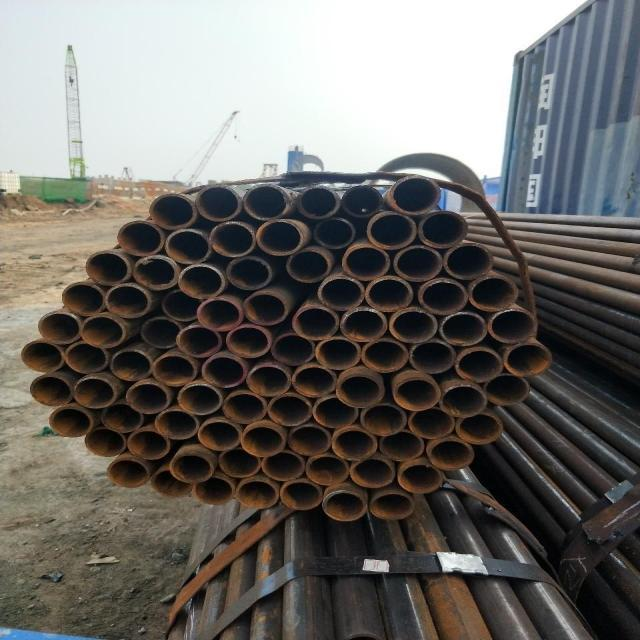pipe: (390, 172, 440, 214), (366, 212, 418, 250), (252, 220, 306, 256), (242, 182, 293, 220), (394, 244, 444, 282), (456, 346, 506, 384), (151, 464, 197, 504), (394, 374, 442, 412), (442, 244, 495, 278), (418, 212, 468, 248), (130, 254, 180, 290), (336, 372, 386, 408), (238, 422, 288, 458), (195, 184, 242, 222), (314, 276, 366, 310), (388, 310, 440, 344), (239, 290, 288, 326), (360, 278, 415, 310), (416, 278, 467, 312), (150, 194, 198, 230), (178, 264, 226, 300), (284, 246, 332, 282), (103, 284, 151, 320), (440, 310, 488, 346), (198, 354, 248, 388), (172, 382, 222, 416), (118, 222, 166, 256), (162, 230, 210, 264), (342, 246, 390, 280), (470, 276, 518, 310), (77, 318, 128, 350), (487, 310, 538, 342), (408, 340, 456, 374), (150, 352, 198, 386), (59, 280, 104, 316), (341, 306, 386, 342), (221, 326, 271, 358), (24, 374, 74, 406), (442, 382, 486, 418), (210, 222, 256, 256), (84, 250, 130, 284), (153, 406, 200, 439), (292, 362, 336, 397), (226, 258, 274, 290), (504, 342, 552, 374), (220, 390, 268, 422), (266, 394, 314, 426), (360, 404, 408, 436), (333, 428, 378, 462), (292, 306, 338, 339), (70, 376, 116, 409), (428, 436, 474, 469), (140, 316, 182, 352), (38, 312, 82, 346), (20, 342, 66, 374), (457, 412, 503, 444), (98, 402, 144, 434), (197, 420, 243, 452), (306, 454, 352, 486), (154, 290, 202, 320), (196, 300, 244, 330), (174, 326, 222, 356), (317, 336, 362, 368), (364, 340, 409, 372), (245, 364, 290, 396), (490, 372, 530, 408), (312, 398, 360, 428), (101, 458, 149, 488), (350, 456, 394, 488), (406, 408, 456, 436), (378, 432, 426, 461), (64, 342, 110, 372), (172, 454, 215, 486), (237, 478, 280, 510), (402, 462, 446, 493), (298, 184, 338, 218), (282, 479, 323, 512), (125, 382, 170, 412), (341, 182, 383, 214), (272, 334, 314, 366), (214, 448, 260, 477), (45, 408, 95, 434), (197, 476, 235, 510), (326, 488, 364, 522), (130, 428, 170, 460), (314, 218, 356, 248), (110, 350, 152, 380), (288, 426, 330, 456), (264, 452, 306, 482), (371, 492, 416, 520), (82, 428, 125, 456)
